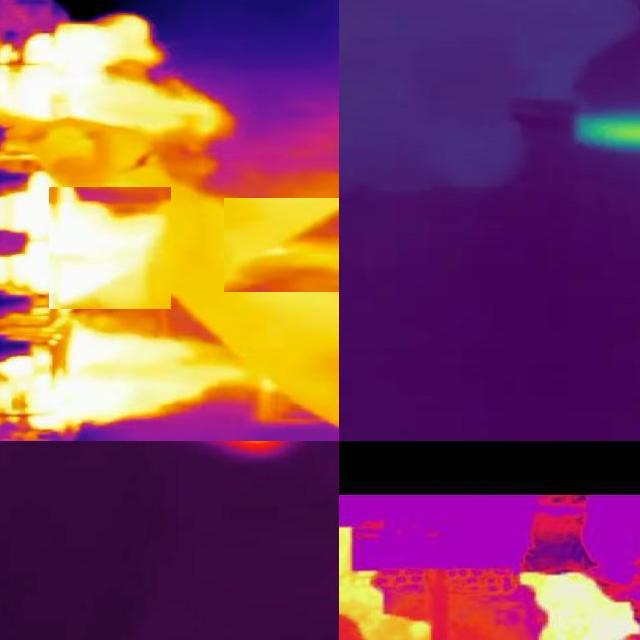fire: (4, 13, 123, 127), (1, 172, 100, 308), (1, 326, 102, 436), (340, 523, 435, 639), (513, 561, 640, 640)
